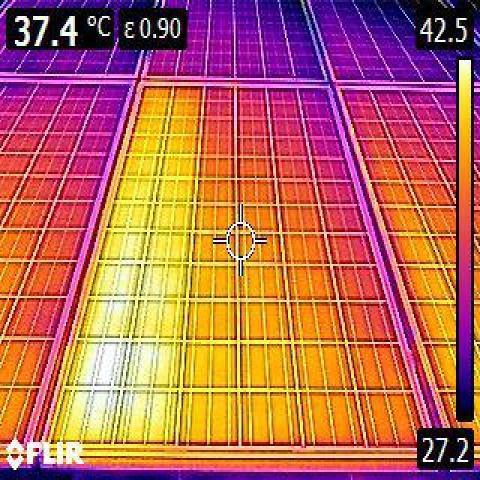fault: (52, 84, 206, 449)
